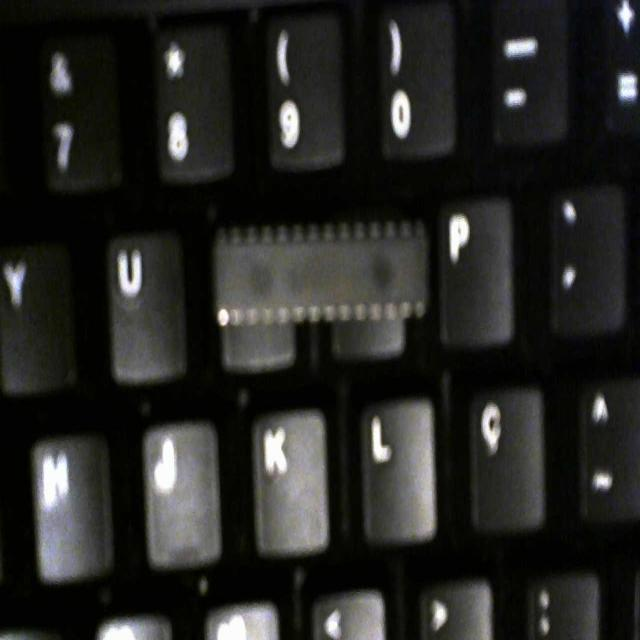atmega: (206, 219, 438, 331)
